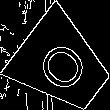O_SE: (31, 32, 95, 98)
